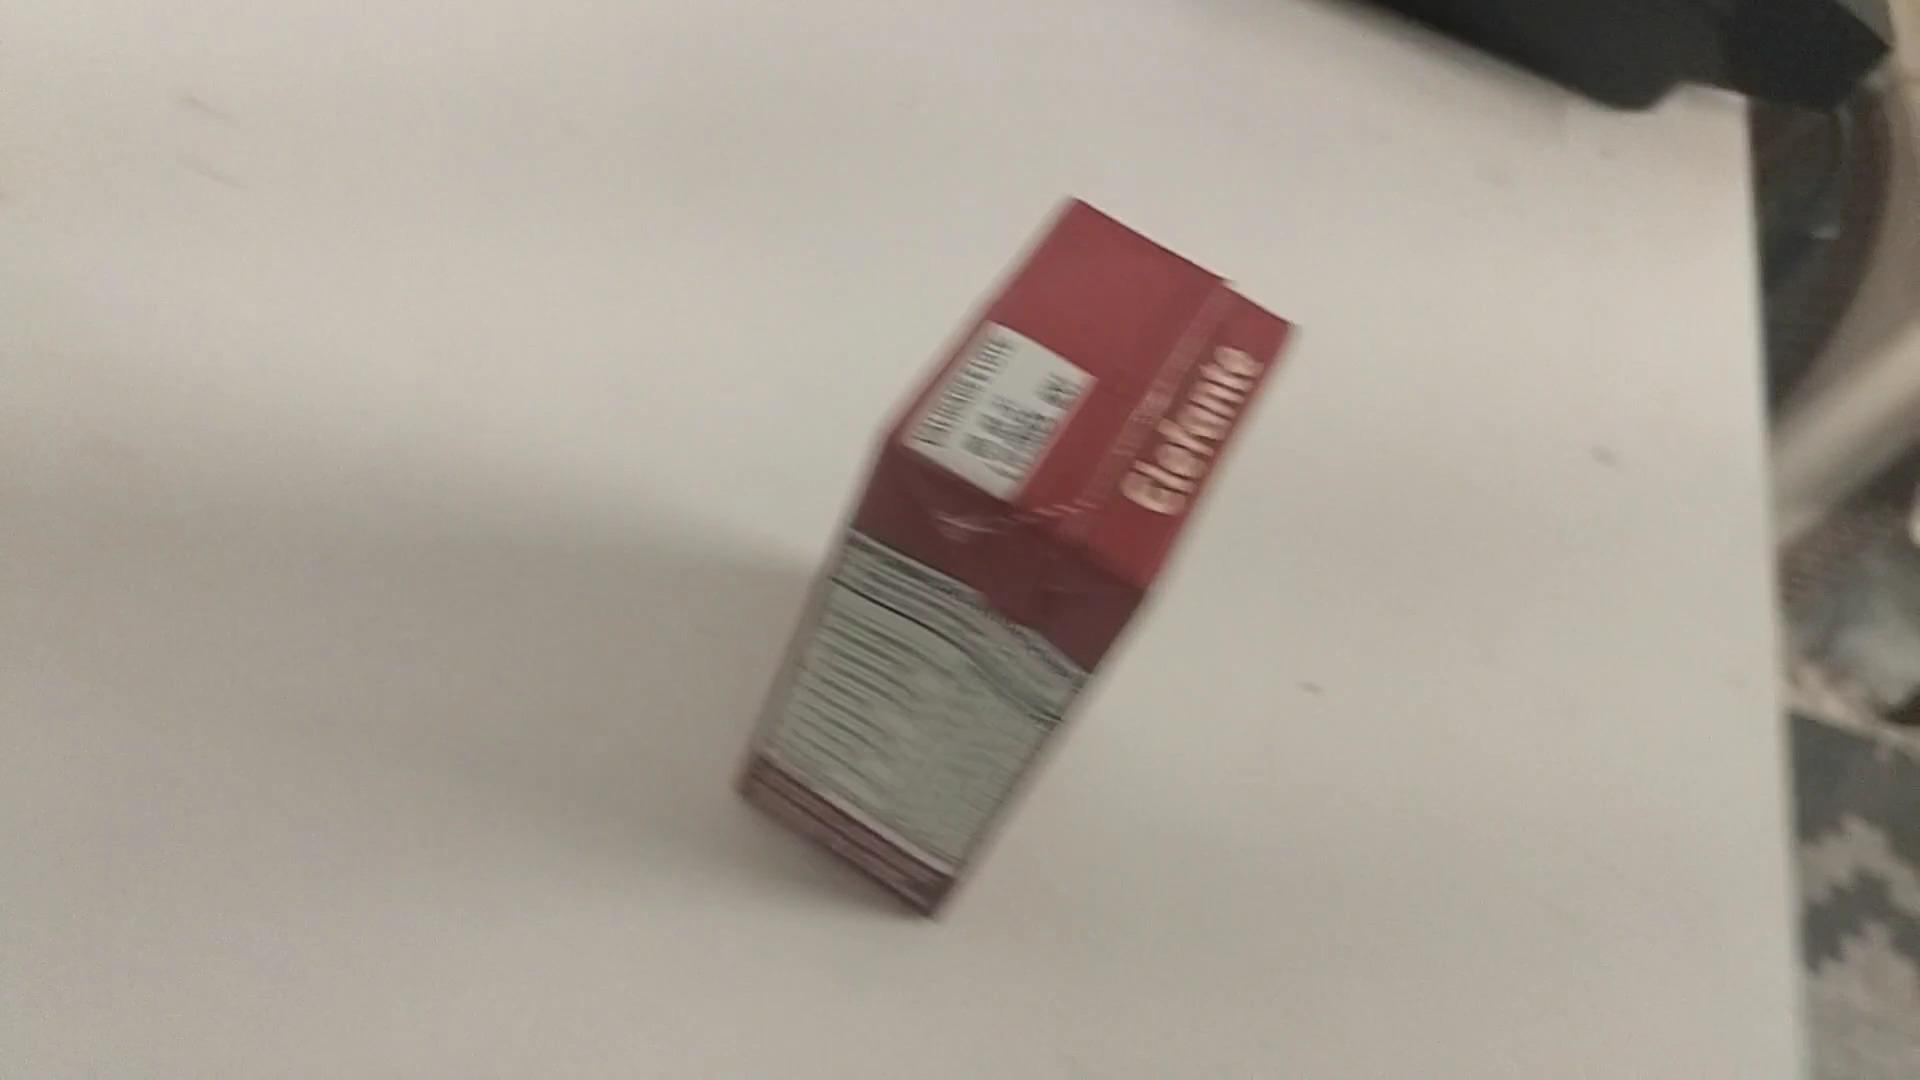tomate: (713, 183, 1308, 923)
